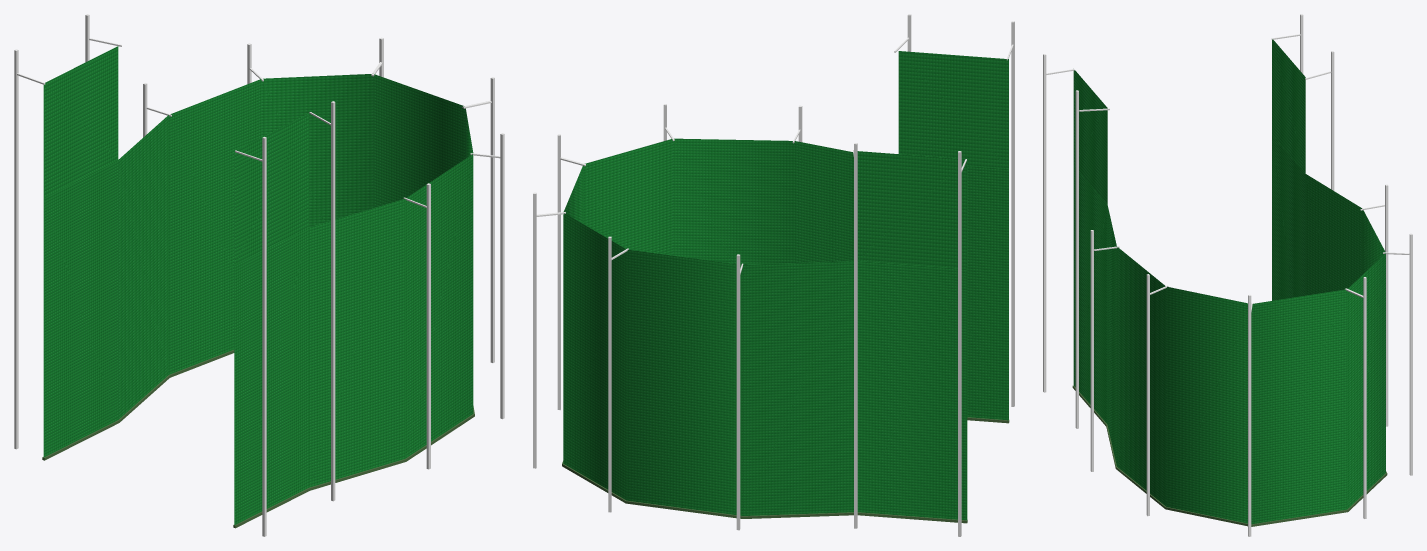
The model's file is Disc_Hammer_Net.FBX.
3 renders of one model, left to right at view 1: azimuth 30°, elevation 25°; view 2: azimuth 150°, elevation 25°; view 3: azimuth 270°, elevation 25°, orthographic. The views are drawn at different scales.
Parts seen in each view (by area): view 1: Dics_Hammer_Net; view 2: Dics_Hammer_Net; view 3: Dics_Hammer_Net.
Boxes of the visible parts, left/top/right/bottom form: Dics_Hammer_Net: left=14, top=14, right=504, bottom=536; Dics_Hammer_Net: left=533, top=14, right=1014, bottom=536; Dics_Hammer_Net: left=1043, top=14, right=1412, bottom=536.
Size of the model in its own units: 125 by 106 by 105.
